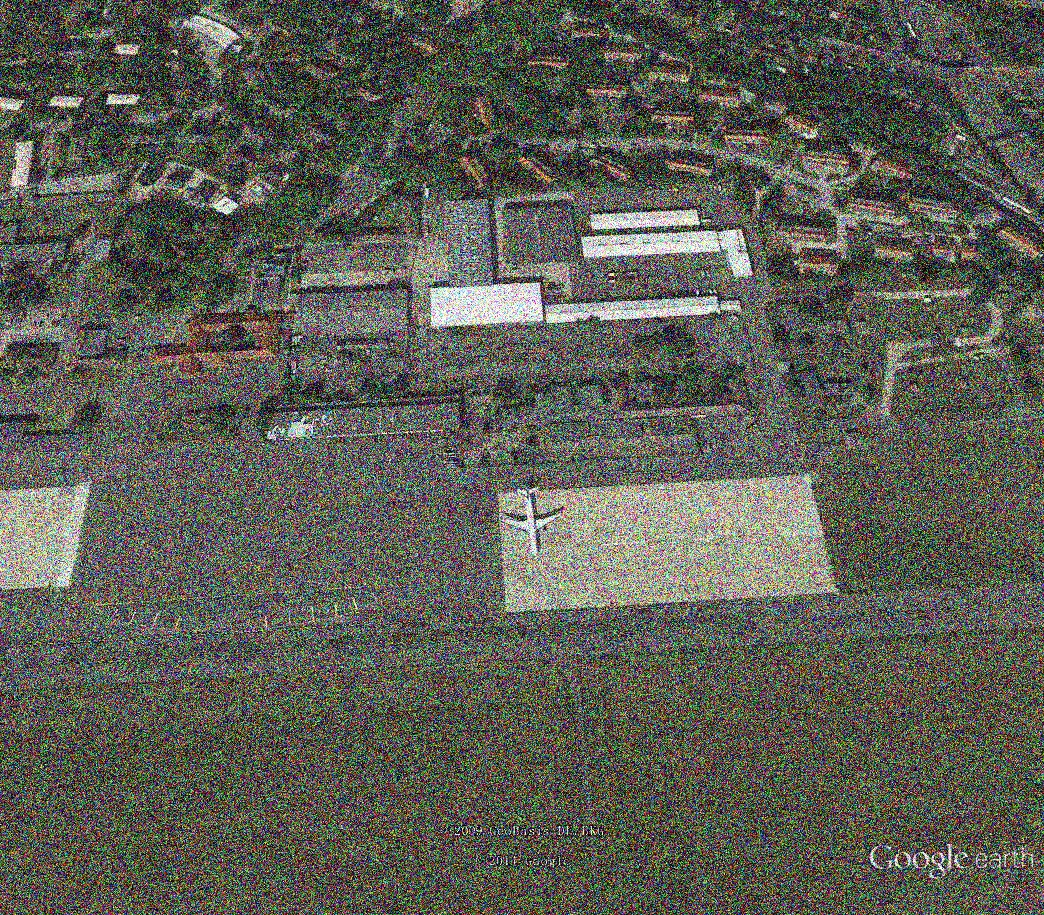aircraft: (498, 481, 565, 567)
